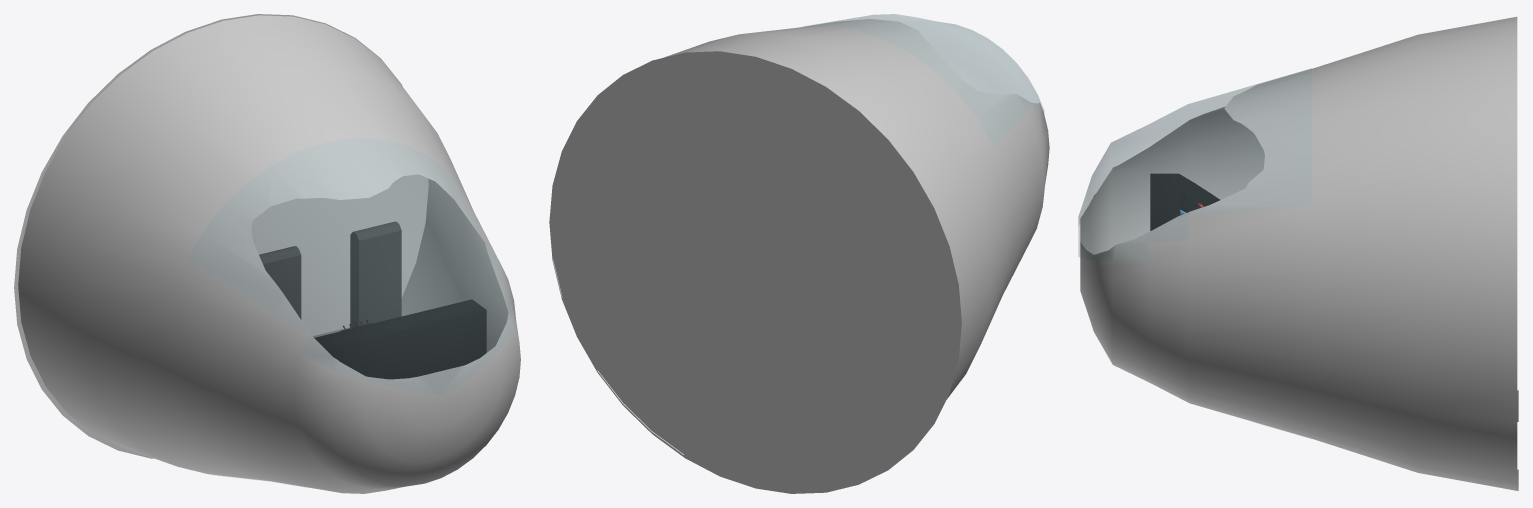
3 renders of one model, left to right at view 1: azimuth 30°, elevation 25°; view 2: azimuth 150°, elevation 25°; view 3: azimuth 270°, elevation 25°, orthographic.
Parts seen in each view (by area): view 1: Cylinder, Cylinder.4, Disc, Cube.1, Cube.2, Cube.2_1; view 2: Disc, Cylinder, Cylinder.4; view 3: Cylinder, Cylinder.4, Cube.1.
Part boxes in pixels (box(x1,y1,x2,y2)): Cylinder: box(18, 15, 520, 493); Cylinder.4: box(187, 138, 515, 487); Disc: box(14, 14, 428, 458); Cube.1: box(314, 299, 486, 379); Cube.2: box(350, 221, 401, 327); Cube.2_1: box(259, 246, 301, 319); Disc: box(549, 51, 961, 493); Cylinder: box(553, 19, 1049, 454); Cylinder.4: box(802, 14, 1044, 146); Cylinder: box(1080, 16, 1518, 490); Cylinder.4: box(1078, 68, 1311, 438); Cube.1: box(1150, 173, 1220, 230).
Size of the model in its own units: 506 by 506 by 462.
10 materials, 3 textured.
